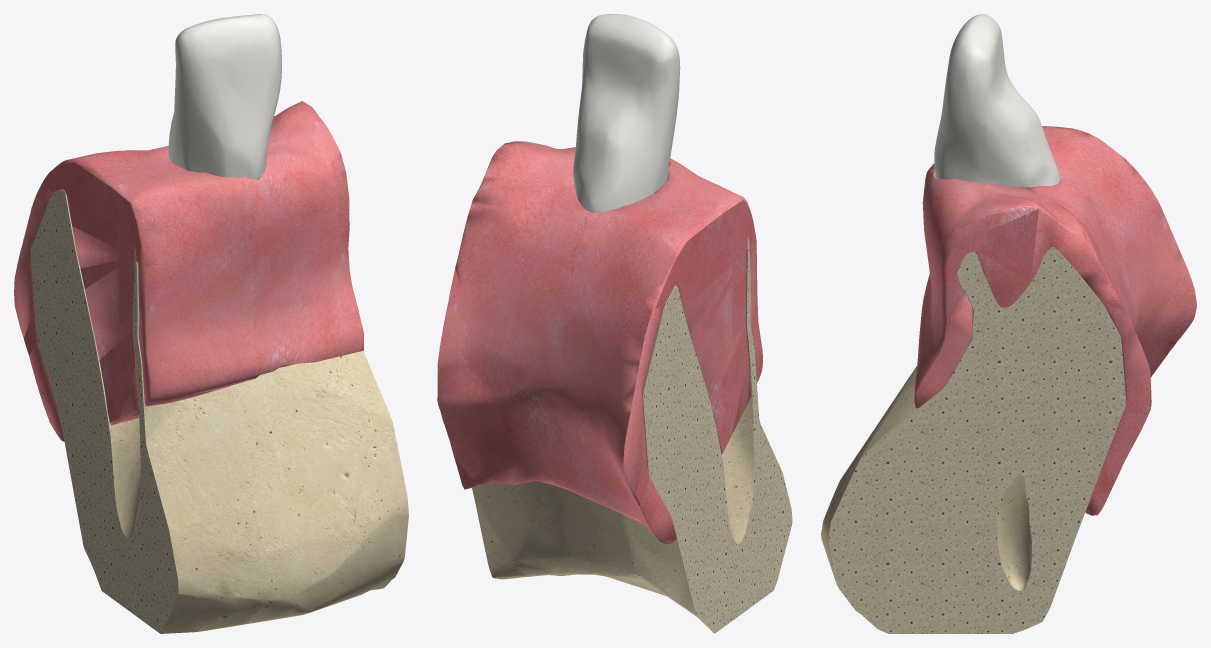
3 views of the same model, side by side, from view 1: azimuth 30°, elevation 25°; view 2: azimuth 150°, elevation 25°; view 3: azimuth 270°, elevation 25° (orthographic). The views are drawn at different scales.
Visible parts, largest first — view 1: kompakta_b, gingiva_b, kompakta_a, gingiva_a, schmelz_b, schmelz_a; view 2: gingiva_a, kompakta_a, schmelz_a, kompakta_b, gingiva_b, schmelz_b; view 3: kompakta_a, kompakta_b, gingiva_a, gingiva_b, schmelz_b, schmelz_a.
Boxes of the visible parts, x1,y1,x2,y2 form: kompakta_b: (119,245,408,633); gingiva_b: (119,128,363,420); kompakta_a: (30,190,139,603); gingiva_a: (14,101,327,441); schmelz_b: (176,14,281,179); schmelz_a: (168,28,186,168); gingiva_a: (437,141,732,543); kompakta_a: (472,285,732,633); schmelz_a: (573,28,674,212); kompakta_b: (550,236,792,620); gingiva_b: (524,141,762,433); schmelz_b: (582,14,680,182); kompakta_a: (987,247,1126,633); kompakta_b: (821,251,986,633); gingiva_a: (987,126,1196,515); gingiva_b: (914,164,986,408); schmelz_b: (934,14,986,183); schmelz_a: (987,15,1060,187).
Size of the model in its own units: 0.0128 by 0.0331 by 0.0202.
21 materials, 8 textured.
